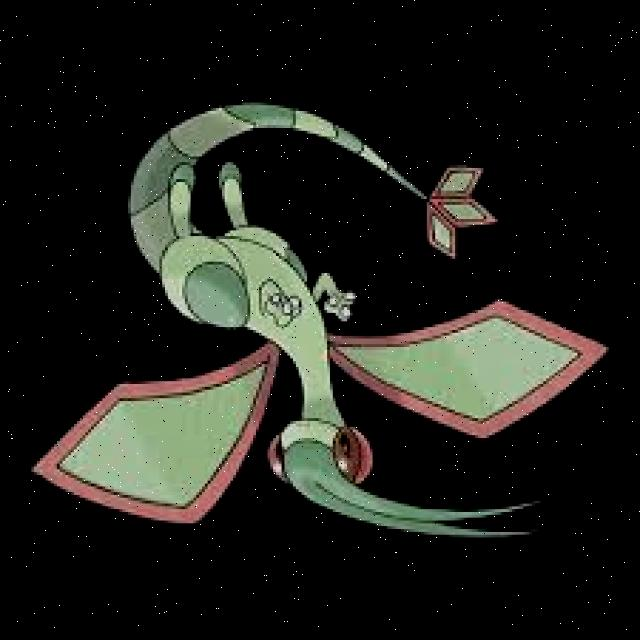flygon: (32, 103, 612, 540)
